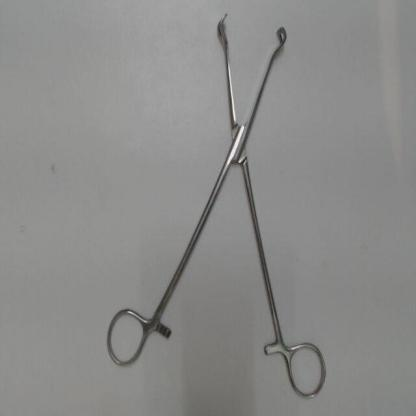8 Babcock Tissue Forceps: (103, 2, 330, 404)
